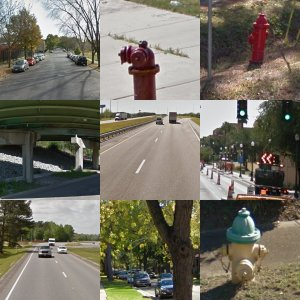公車: (220, 118, 300, 185), (209, 228, 282, 273), (135, 131, 196, 180)
棕櫚樹: (1, 100, 53, 199)
汽車: (206, 53, 292, 100), (112, 26, 177, 62), (158, 265, 200, 300), (201, 26, 240, 50)
